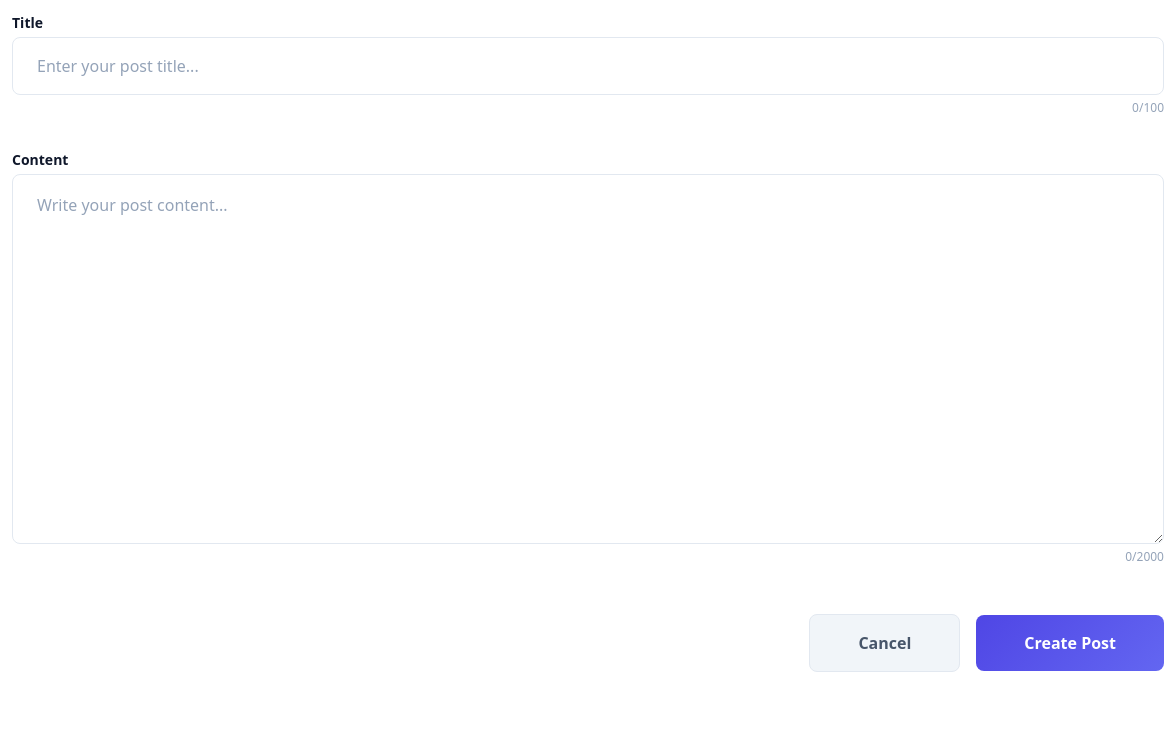
Test case: BlogForm › validation › shows error when title is empty on submit
In the text box labelled "Content": (588, 359) [12,174,1164,544], type "Some valid content"
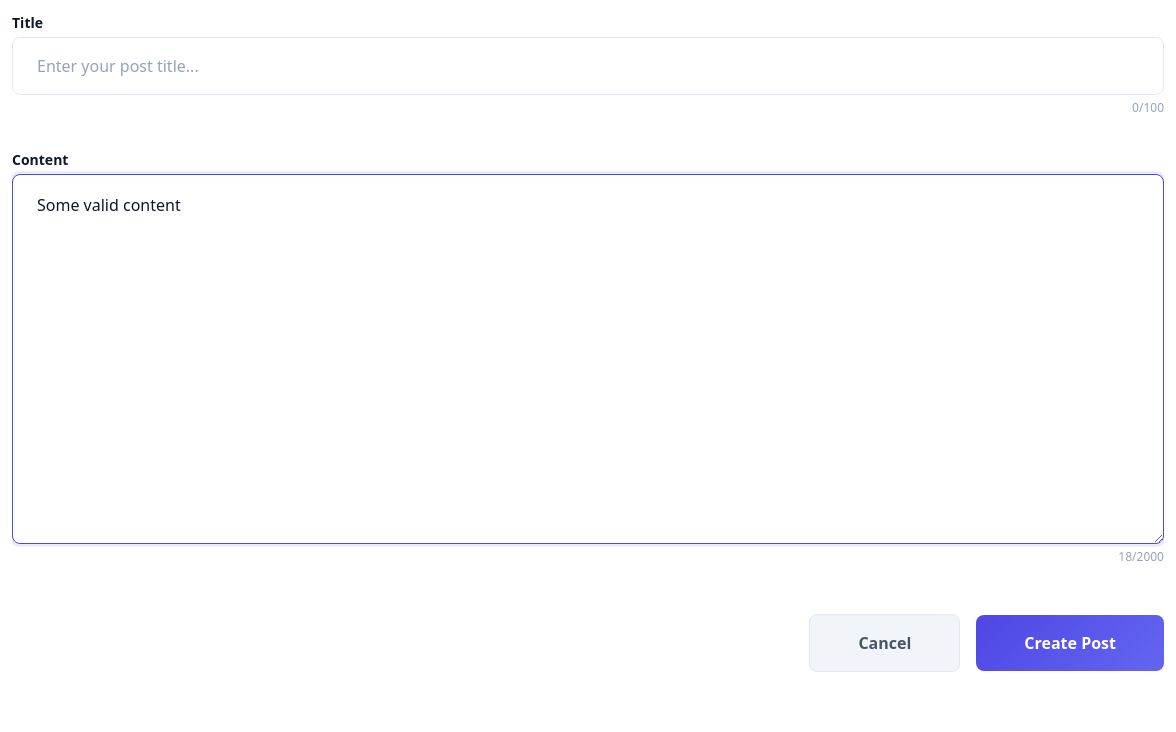
Click the button "Create Post": (1070, 643) [976,615,1164,671]
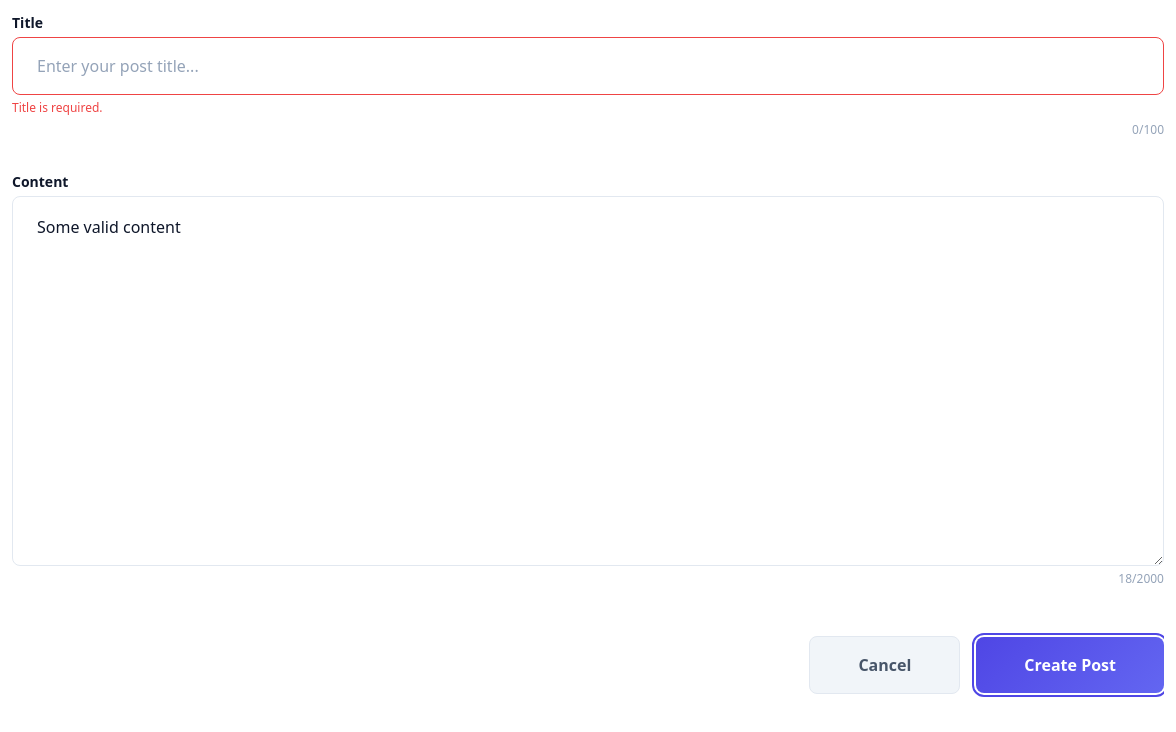
Expected: the text "Title is required." is shown, [12,99,102,116]
